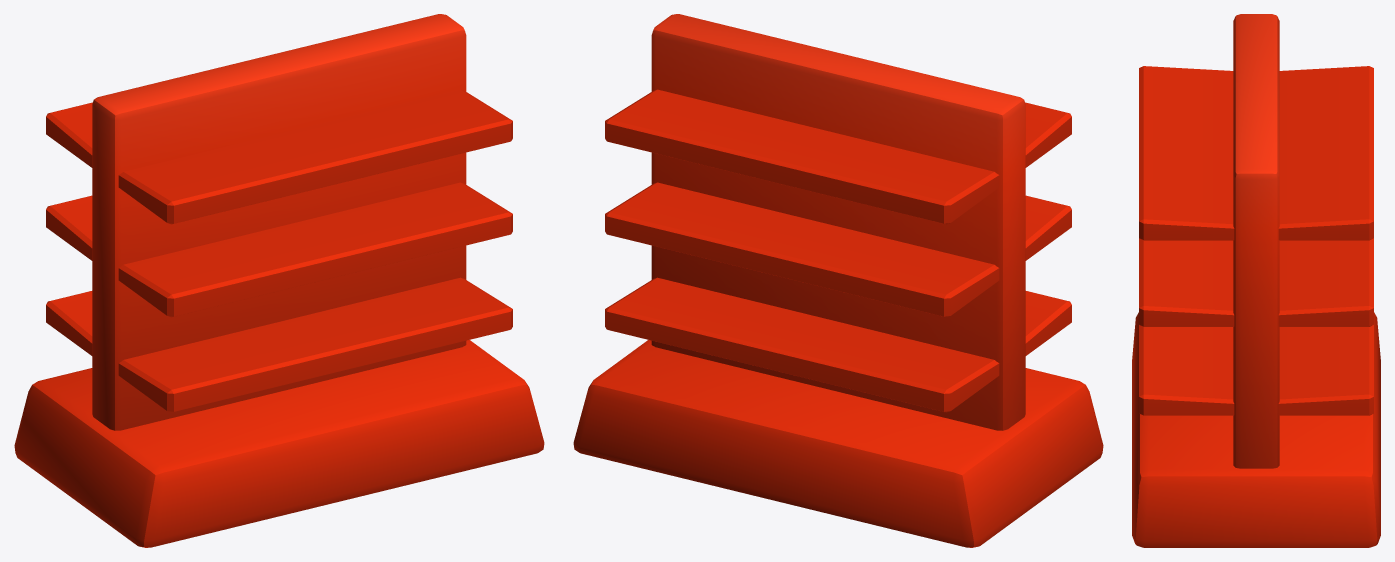
The model's file is Kitchen_Rack_02_C04.fbx.
3 views of the same model, side by side, from view 1: azimuth 30°, elevation 25°; view 2: azimuth 150°, elevation 25°; view 3: azimuth 270°, elevation 25° (orthographic). The views are drawn at different scales.
Parts seen in each view (by area): view 1: Kitchen_Rack_02_C04; view 2: Kitchen_Rack_02_C04; view 3: Kitchen_Rack_02_C04.
Part boxes in pixels (box(x1,y1,x2,y2)): Kitchen_Rack_02_C04: box(14, 14, 544, 547); Kitchen_Rack_02_C04: box(573, 14, 1103, 547); Kitchen_Rack_02_C04: box(1132, 14, 1380, 547).
Size of the model in its own units: 200 by 185 by 114.
